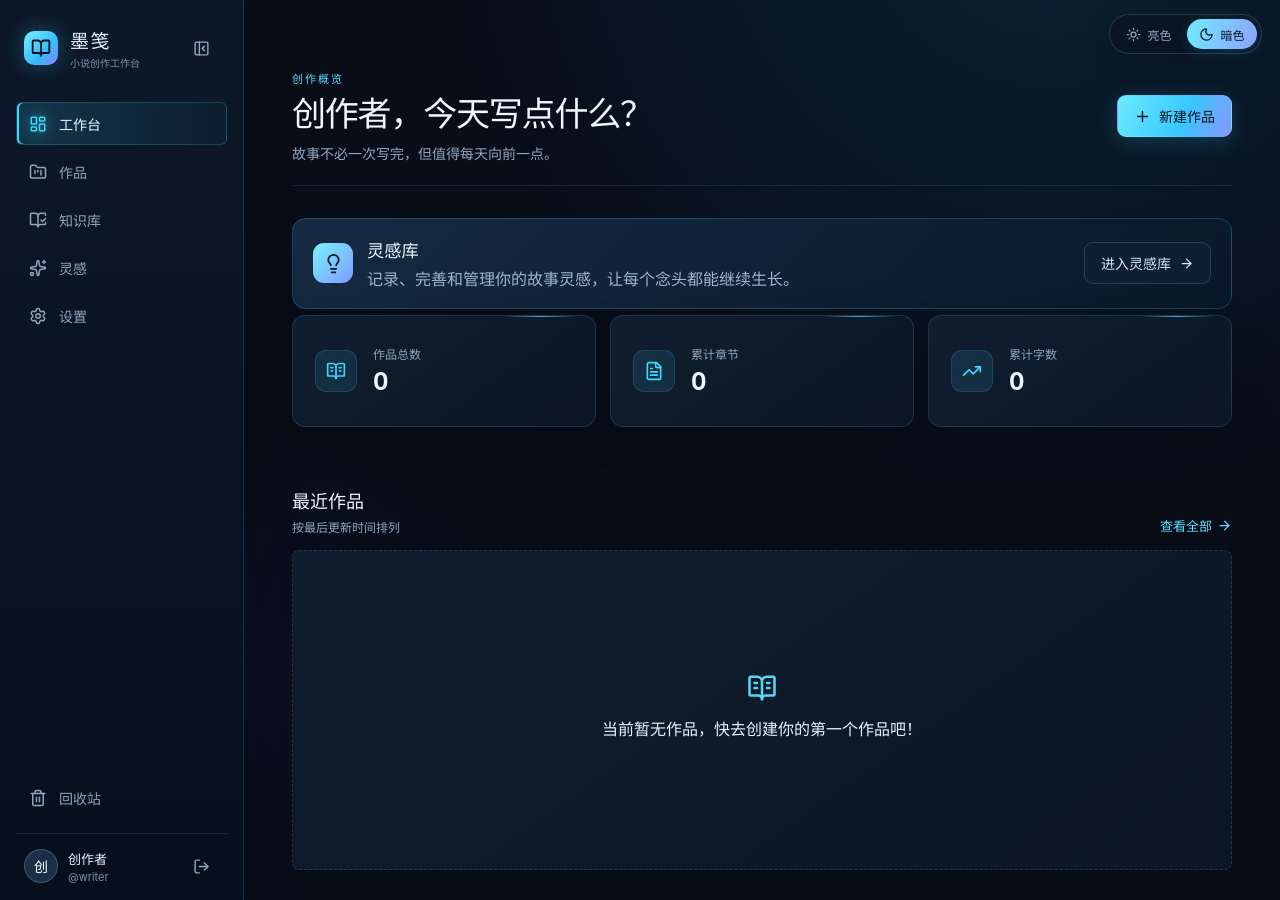
新建作品入口 › 工作台 仅保留右上角入口，点击仍能打开新建弹窗
This screenshot has width=1280, height=900.
Expected: the heading "当前暂无作品，快去创建你的第一个作品吧！" is shown, [602,716,922,740]
Click the link "新建作品".
click(1174, 116)  # box [1117,95,1232,137]
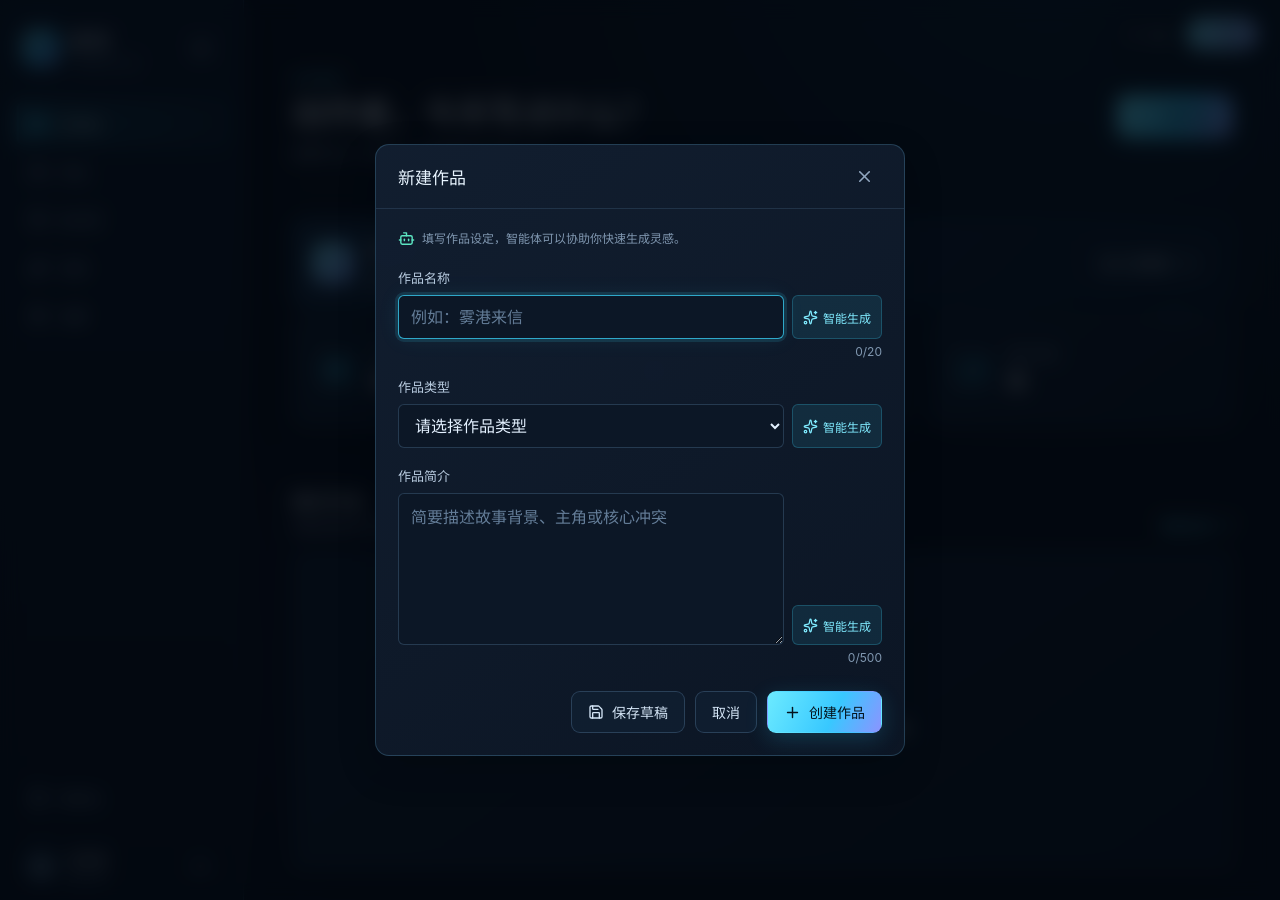
Expected: the dialog "新建作品" is shown, [375,144,905,756]
Expected: the button "创建作品" is shown, [767,691,882,733]
